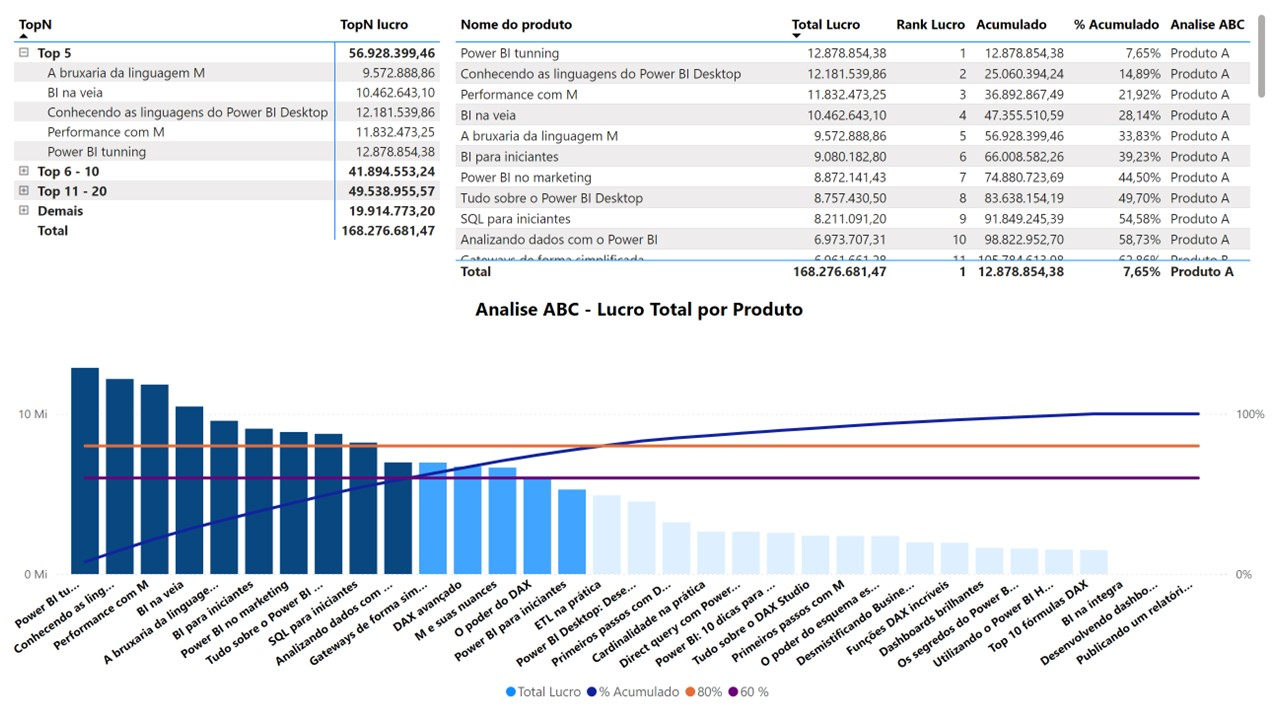

What the dashboard file says about the page in this screenshot:
{"tool":"powerbi","page":{"name":"Analise ABC","canvas":[1280,720],"ordinal":3},"visuals":[{"type":"tableEx","fields":{"Values":["Tb_Produtos.Nome do produto","Medidas.Total Lucro","Medidas.Rank Lucro","Medidas.Acumulado","Medidas.% Acumulado","Medidas.Analise ABC"]},"box":[10.3,0,923.9,720],"z":0}]}

Visuals, with their boxes in screenshot pixels (x1, y1, x2, y2), scaled from the page's 1280x720 canvas onto the 1280x720 screenshot:
tableEx - Tb_Produtos.Nome do produto x Medidas.Total Lucro: [10, 0, 934, 719]
